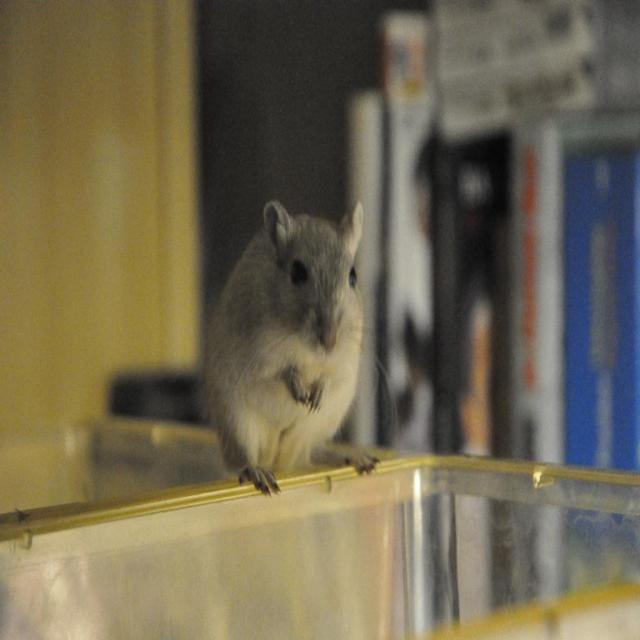rat: (200, 205, 387, 495)
